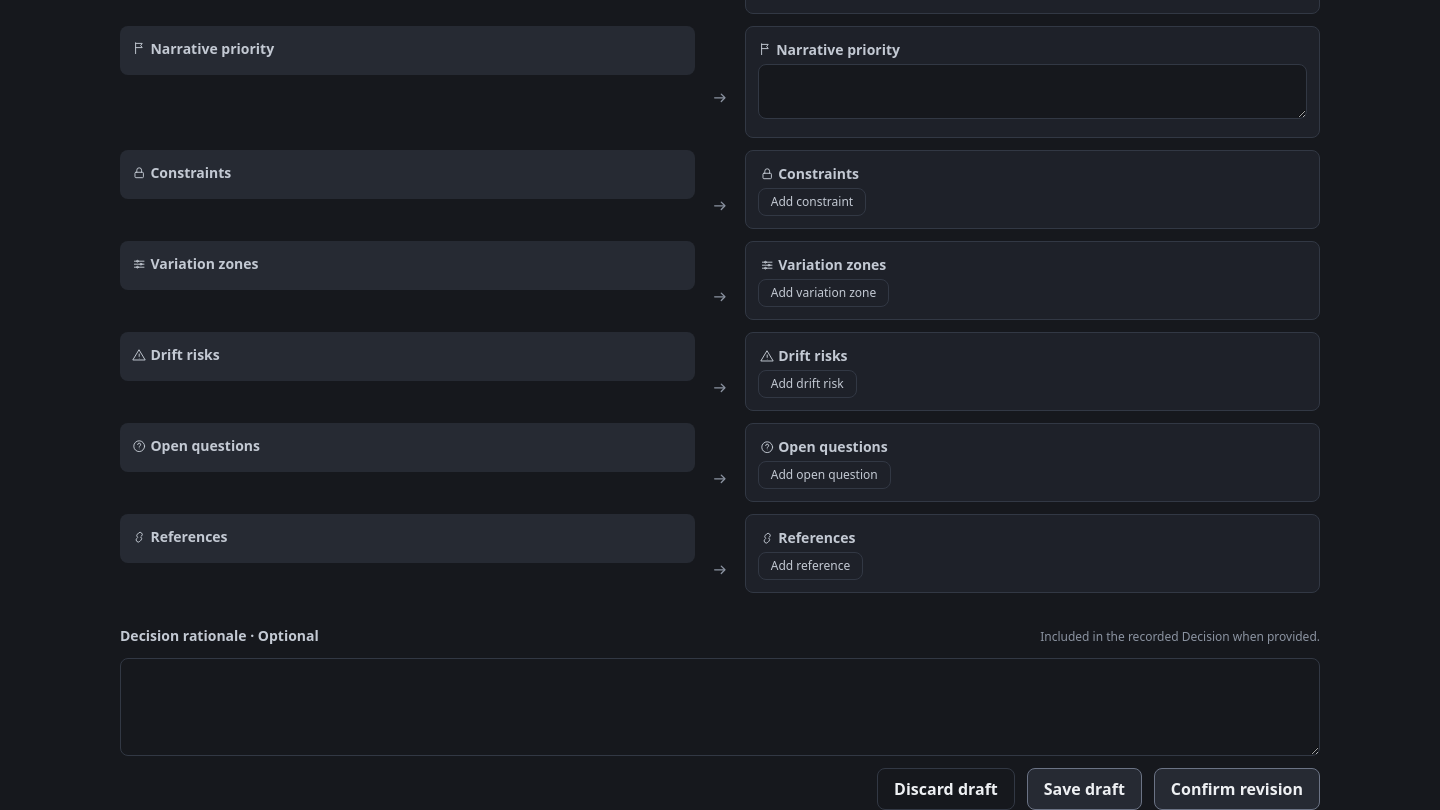
Test: CoreAnchorRevisionEditor › the Confirm dialog communicates Human VFX Supervisor authority and the Revision number
(page scrolled)
Click the button "Confirm revision": (1237, 790) [1154, 768, 1320, 809]
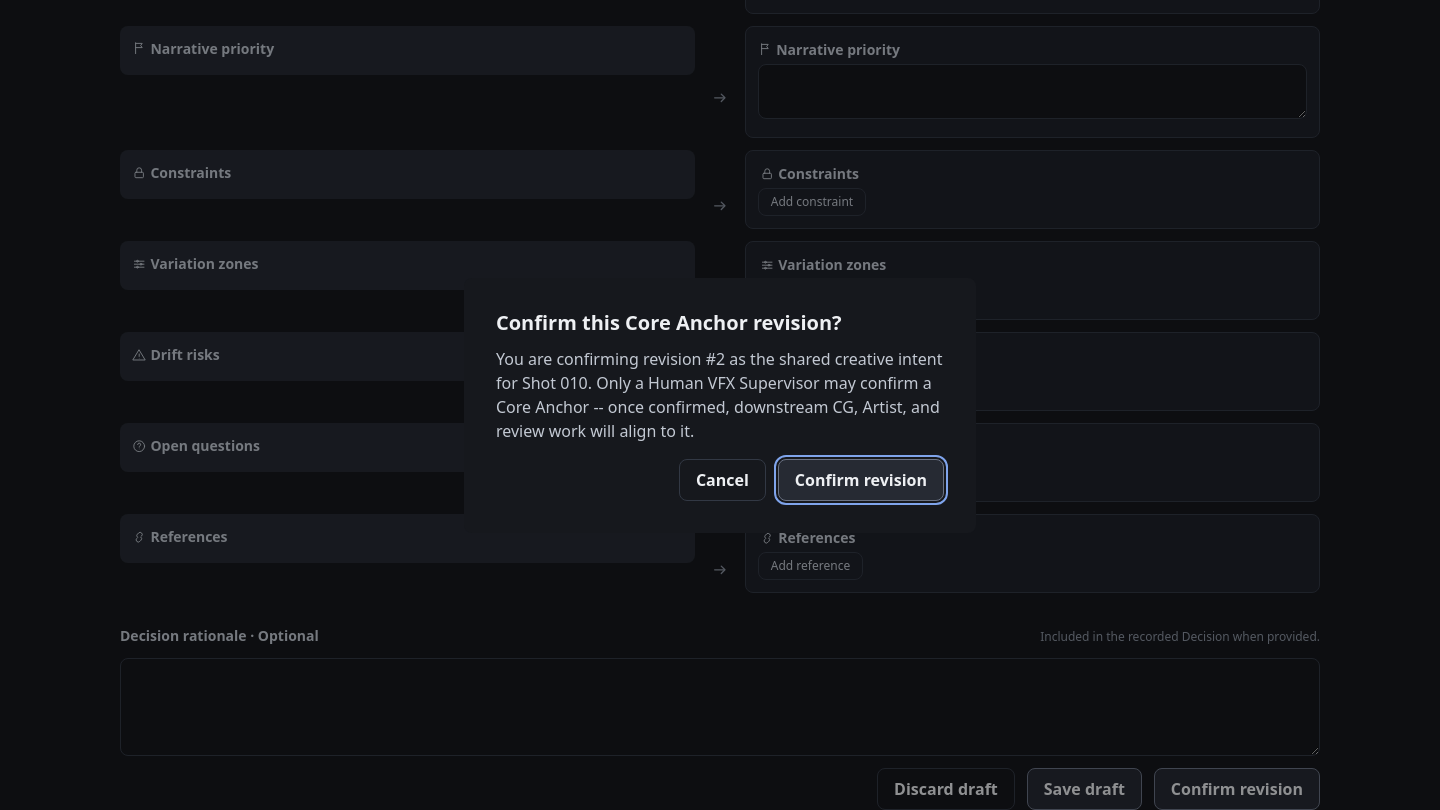
expect the text "revision #2" is shown: met, box [496, 348, 942, 442]
